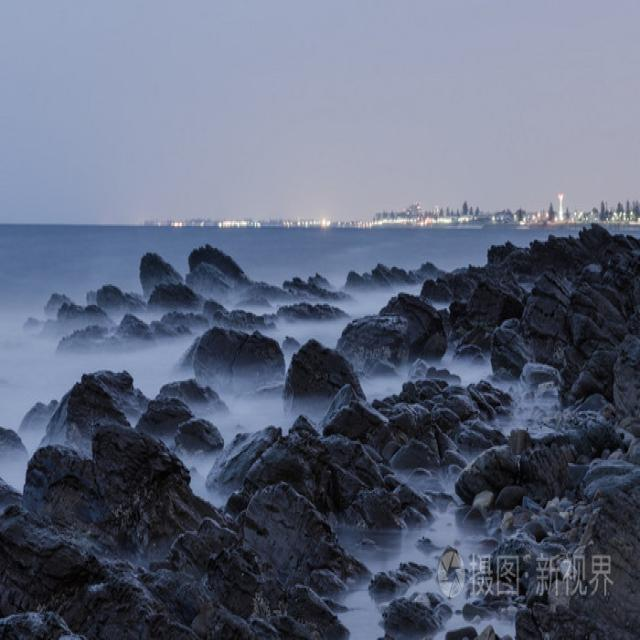reef: (76, 224, 353, 370)
